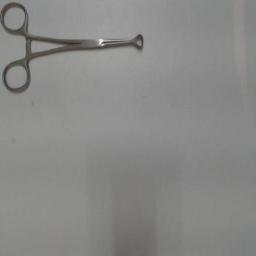Babcock Tissue Forceps: (1, 1, 147, 97)
